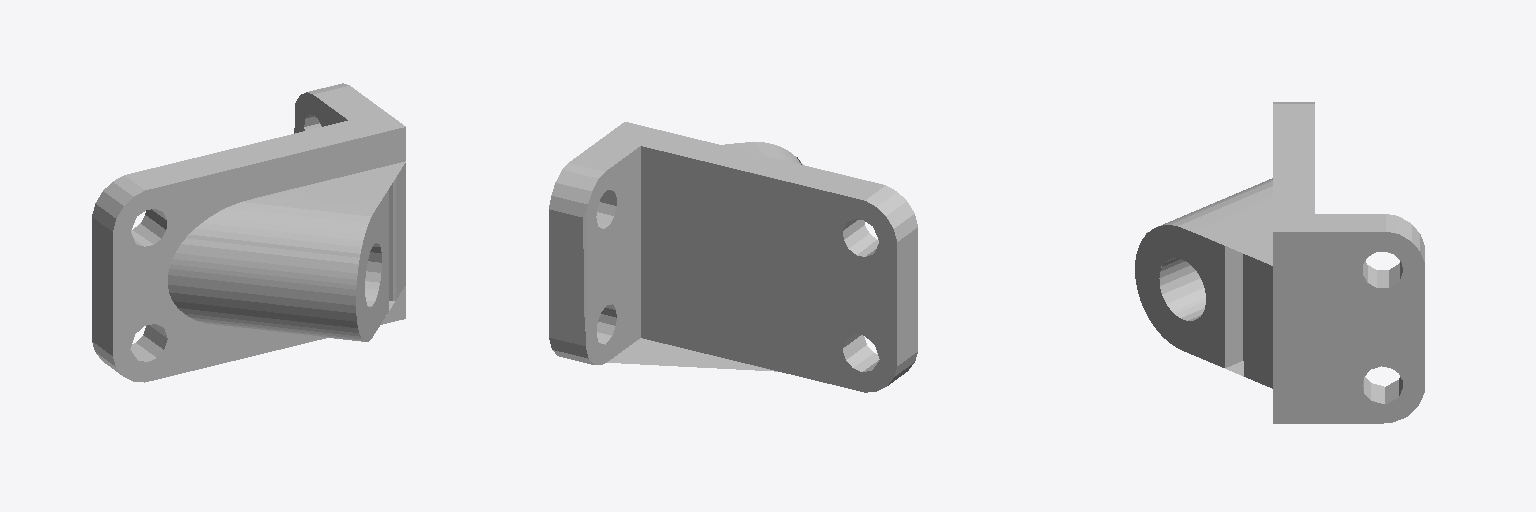
File: polygon_mesh.obj
3 views of the same model, side by side, from view 1: azimuth 30°, elevation 25°; view 2: azimuth 150°, elevation 25°; view 3: azimuth 270°, elevation 25° (orthographic).
Size of the model in its own units: 74.98 by 46.9 by 64.21.